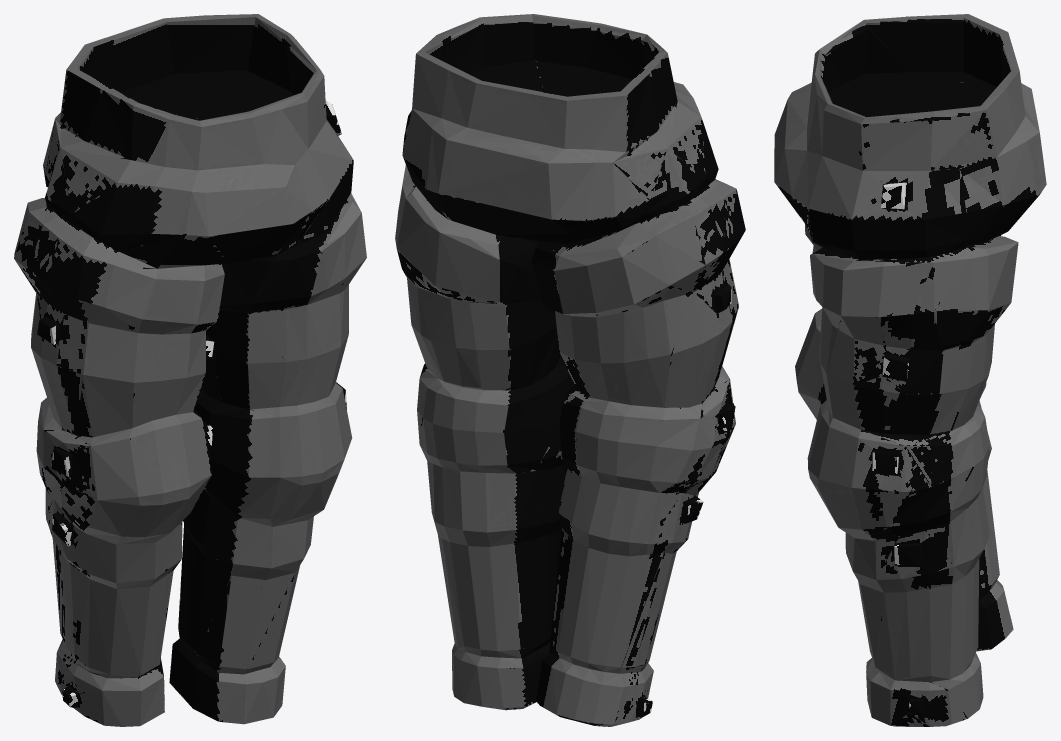
The picture shows the model from 3 angles, left to right: view 1: azimuth 30°, elevation 25°; view 2: azimuth 150°, elevation 25°; view 3: azimuth 270°, elevation 25°; orthographic projection. The views are drawn at different scales.
Parts seen in each view (by area): view 1: OBJ025; view 2: OBJ025; view 3: OBJ025.
Boxes of the visible parts, box(x1,y1,x2,y2) form: OBJ025: box(14, 14, 366, 726); OBJ025: box(395, 14, 745, 726); OBJ025: box(774, 14, 1046, 726).
Bounding box in the file's own units: 0.2201 × 0.4362 × 0.1698.
Materials: 1 (1 with a texture image).
